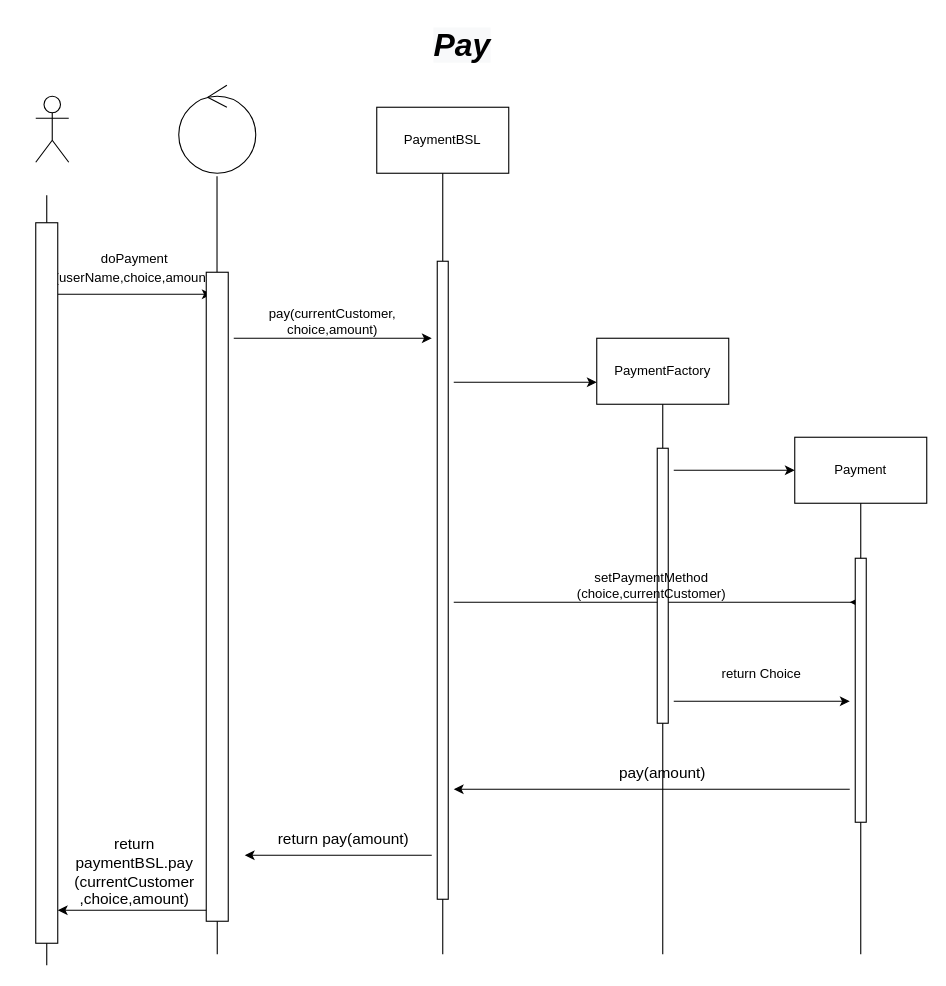
Image size: 946x986. Some labels were removed from this diagram. Each missing label, with the box of its shape:
Customer: (35, 95, 69, 162)
Payment Controller: (178, 84, 256, 173)
